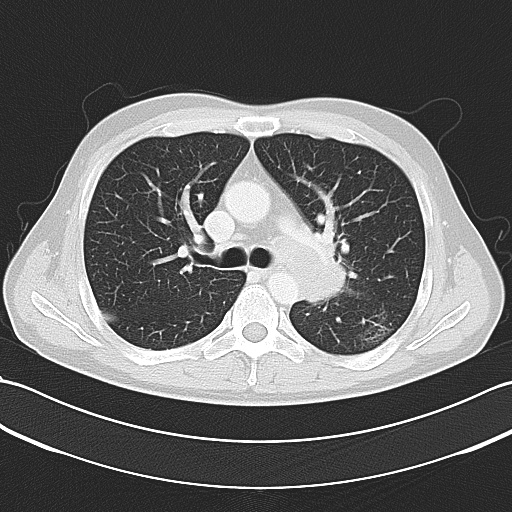Copy of Copy of Copy of non-cancer: (170, 237, 194, 261)
Copy of Copy of non-cancer: (186, 190, 210, 220)
Copy of non-cancer: (212, 139, 297, 214), (96, 300, 121, 329)
cancer: (313, 234, 347, 309), (295, 260, 339, 315), (306, 215, 346, 272), (326, 239, 359, 304)
non-cancer: (354, 313, 398, 351)
